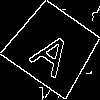A: (28, 23, 82, 80)
